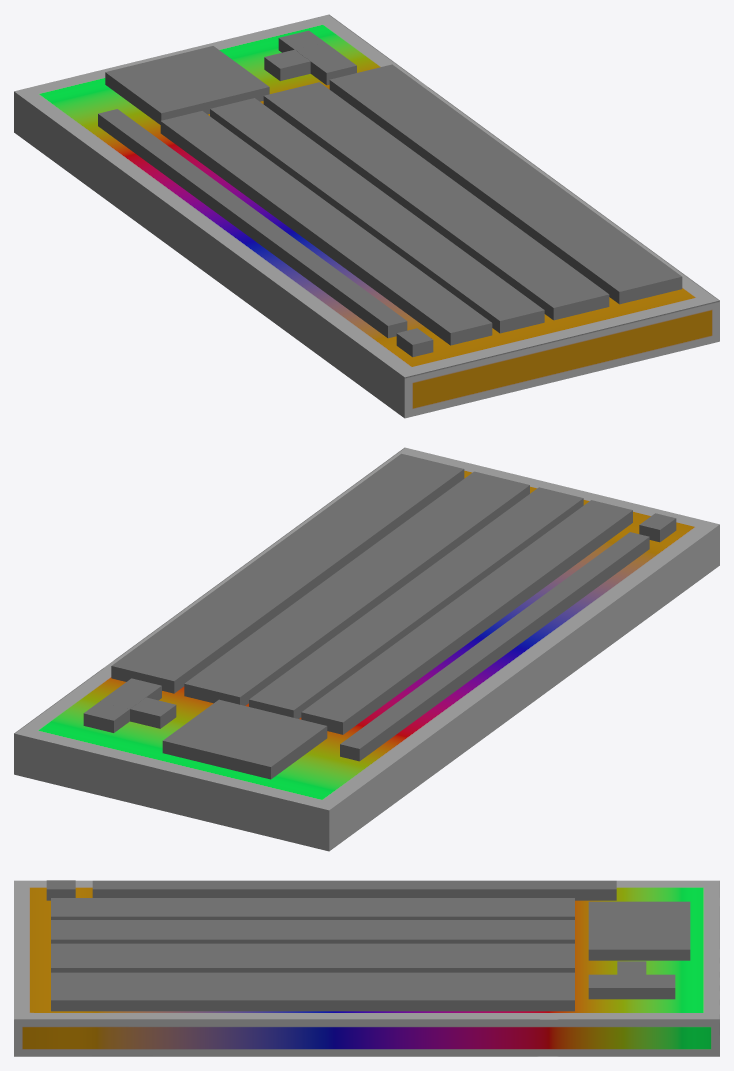
Rendered from keyboardWhite.fbx.
3 renders of one model, top to bottom at view 1: azimuth 30°, elevation 25°; view 2: azimuth 150°, elevation 25°; view 3: azimuth 270°, elevation 25°, orthographic. The views are drawn at different scales.
Visible parts, largest first — view 1: Keys, Board; view 2: Keys, Board; view 3: Keys, Board.
Boxes of the visible parts, box(x1,y1,x2,y2) form: Keys: box(98, 30, 682, 357); Board: box(14, 14, 719, 418); Keys: box(83, 453, 676, 779); Board: box(14, 447, 719, 851); Keys: box(46, 880, 690, 1011); Board: box(14, 880, 719, 1056).
Size of the model in its own units: 0.48 by 1.03 by 0.0787.
